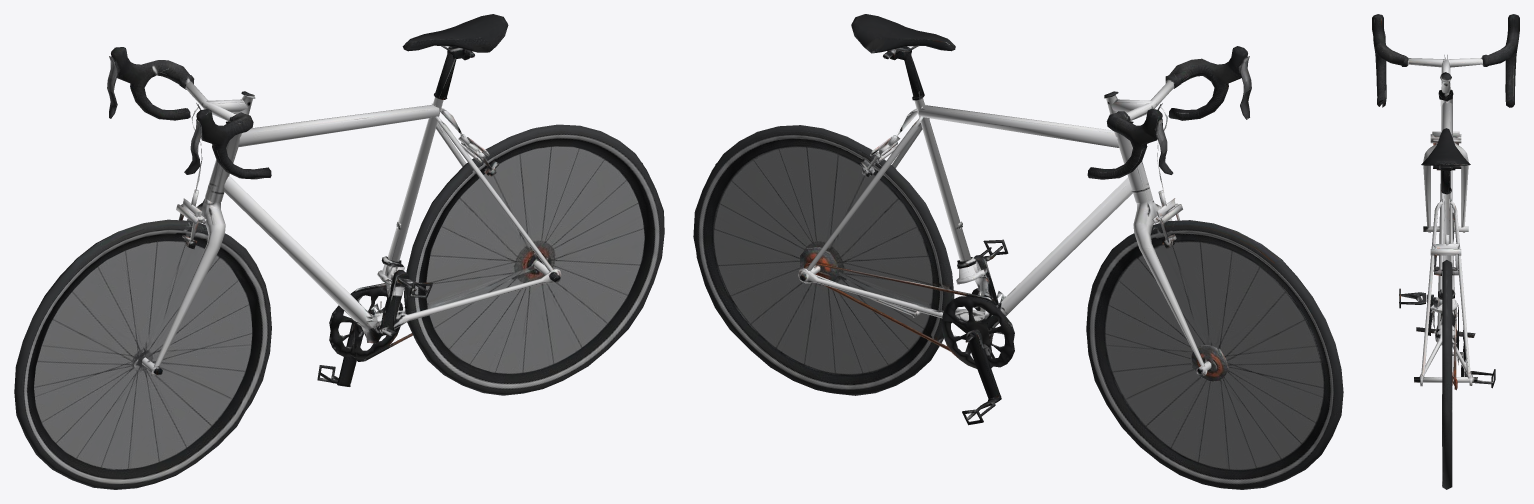
The model's file is bike.glb.
The picture shows the model from 3 angles, left to right: view 1: azimuth 30°, elevation 25°; view 2: azimuth 150°, elevation 25°; view 3: azimuth 270°, elevation 25°; orthographic projection. The views are drawn at different scales.
Size of the model in its own units: 0.9575 by 0.5674 by 0.2378.
Materials: 1 (1 with a texture image).
